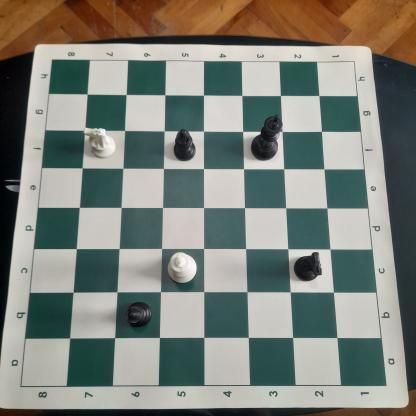black-bishop: (122, 298, 155, 330), (171, 125, 198, 163)
black-king: (249, 109, 287, 162)
black-knight: (290, 248, 326, 286)
white-king: (165, 249, 201, 286)
white-knight: (80, 122, 118, 160)
